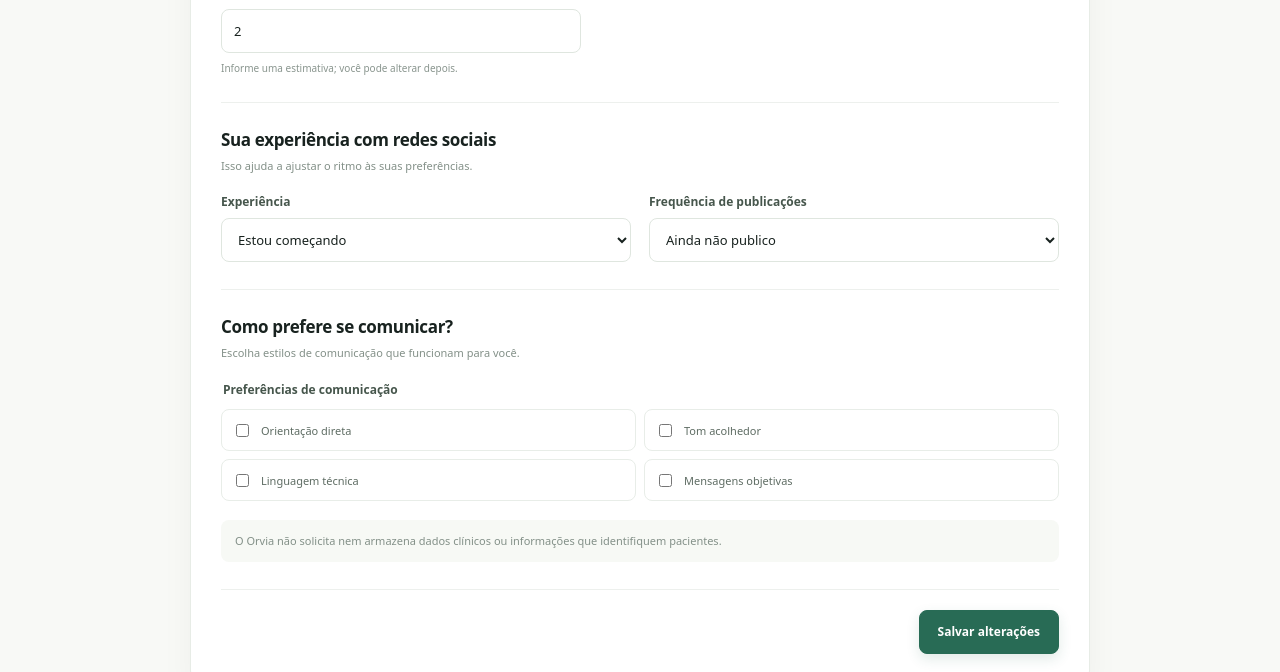
Test: ProfileWorkflow save feedback › announces successful profile saves in a polite status region
(page scrolled)
Click the button "Salvar alterações": {"x": 989, "y": 632} [918,610,1059,654]
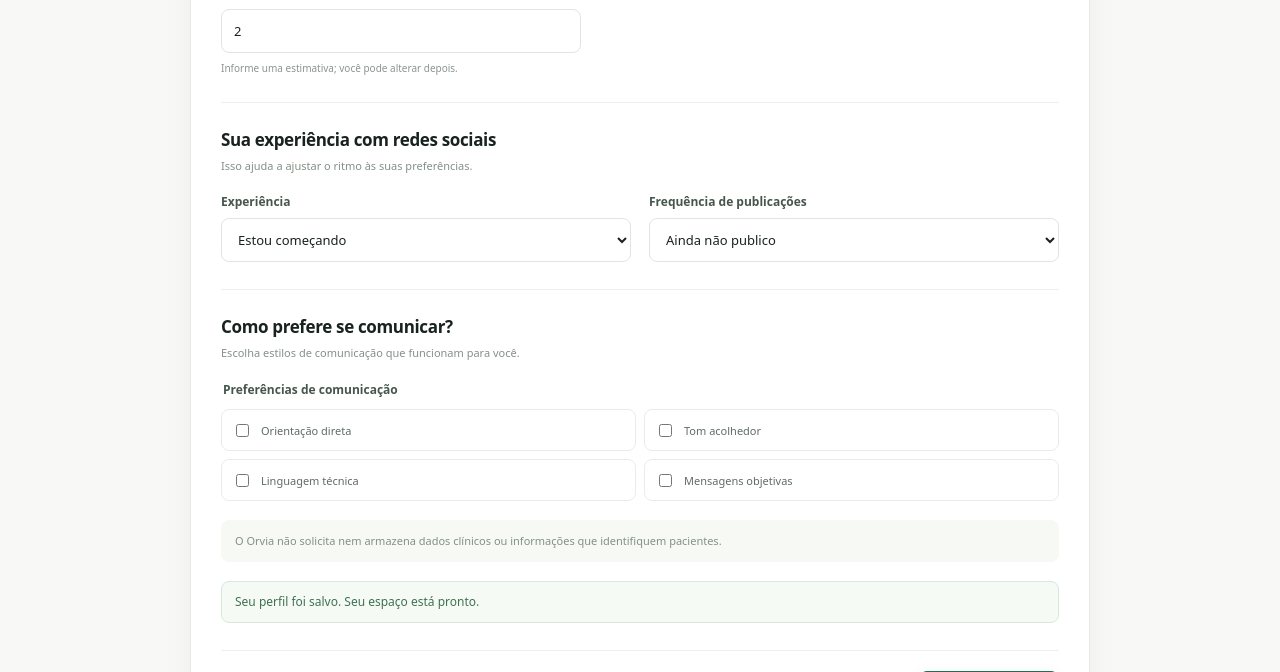
Now the message shows "Seu perfil foi salvo", box [235,593,479,610]
